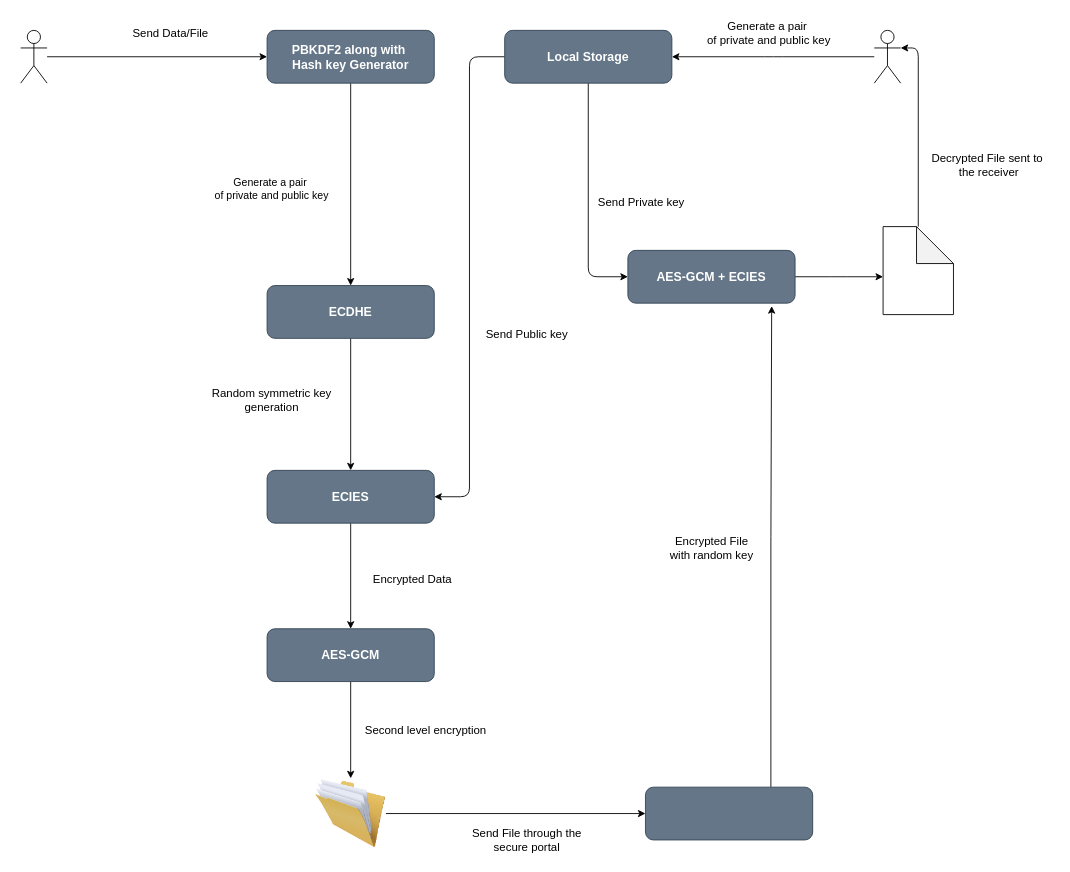
The diagram is 1070 pixels wide and 872 high, and some of its shapes have lost their labels. Here are the shapes that lost their labels. From the top down, the centre of each, then its label:
At pixel 33 56: "Sender".
At pixel 887 56: "Receiver".
At pixel 729 813: "End-to end encryption sending".
